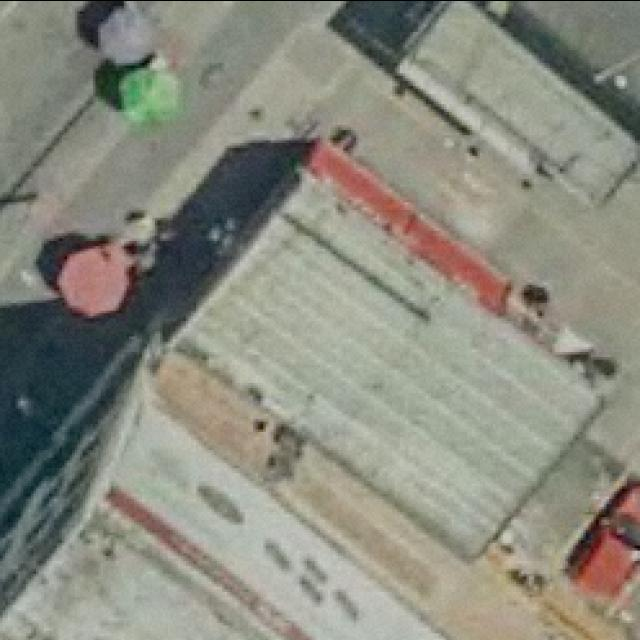vendedor_ambulante: (46, 235, 138, 322), (90, 0, 159, 73), (112, 64, 182, 130)
